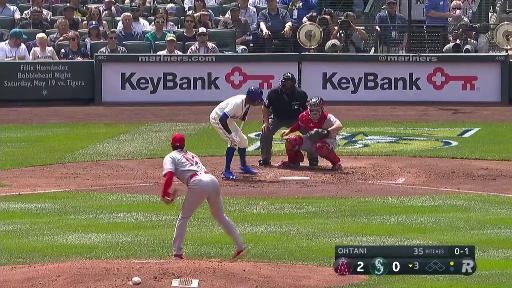pitcher: (158, 134, 246, 261)
